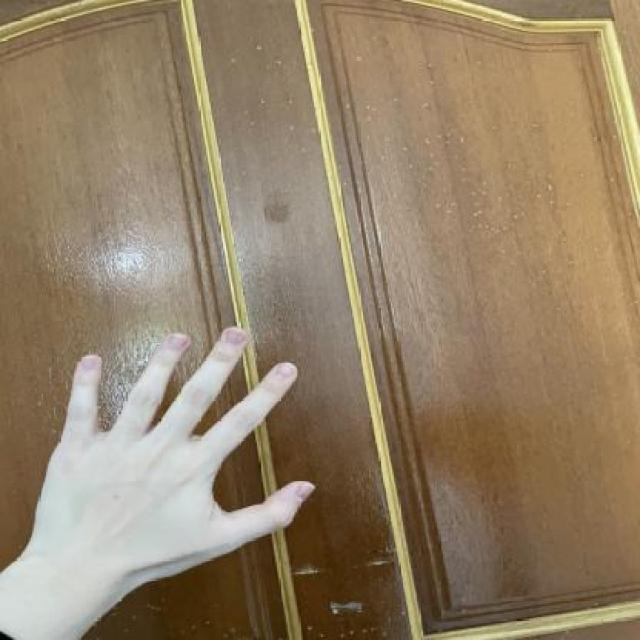hand: (14, 314, 326, 608)
